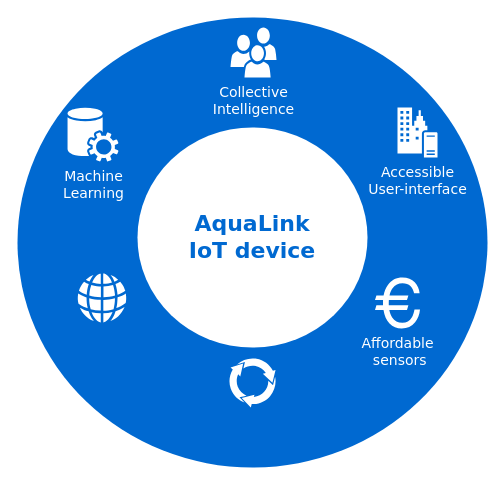
This 504x484 diagram has some shape labels left out. Each missing label, with the centre of its shape:
"Biodegradable Materials" belongs at (x=252, y=382).
"Globally deployable" belongs at (x=101, y=297).
